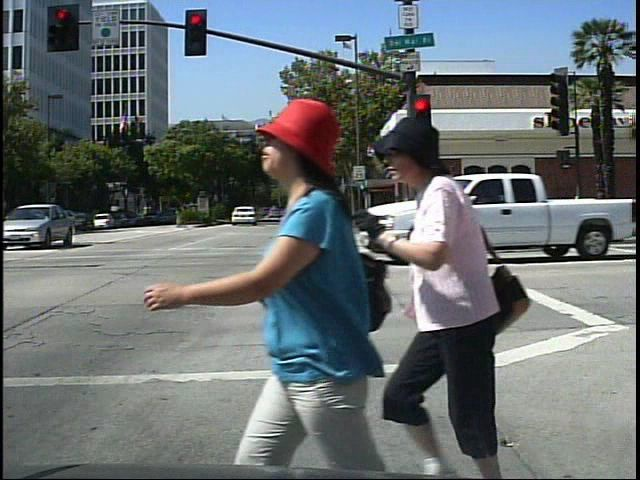person: (155, 63, 396, 476), (379, 117, 544, 480)
